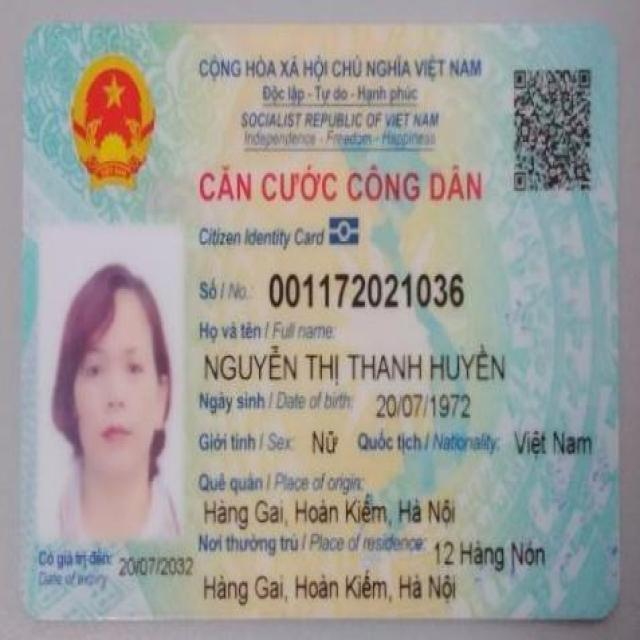current_place: (199, 564, 464, 609), (426, 533, 549, 574)
dob: (373, 392, 477, 420)
expire_date: (117, 552, 198, 579)
gender: (311, 427, 345, 457)
id: (268, 272, 466, 309)
name: (202, 338, 511, 386)
nationality: (513, 427, 595, 464)
origin_place: (200, 496, 458, 530)
